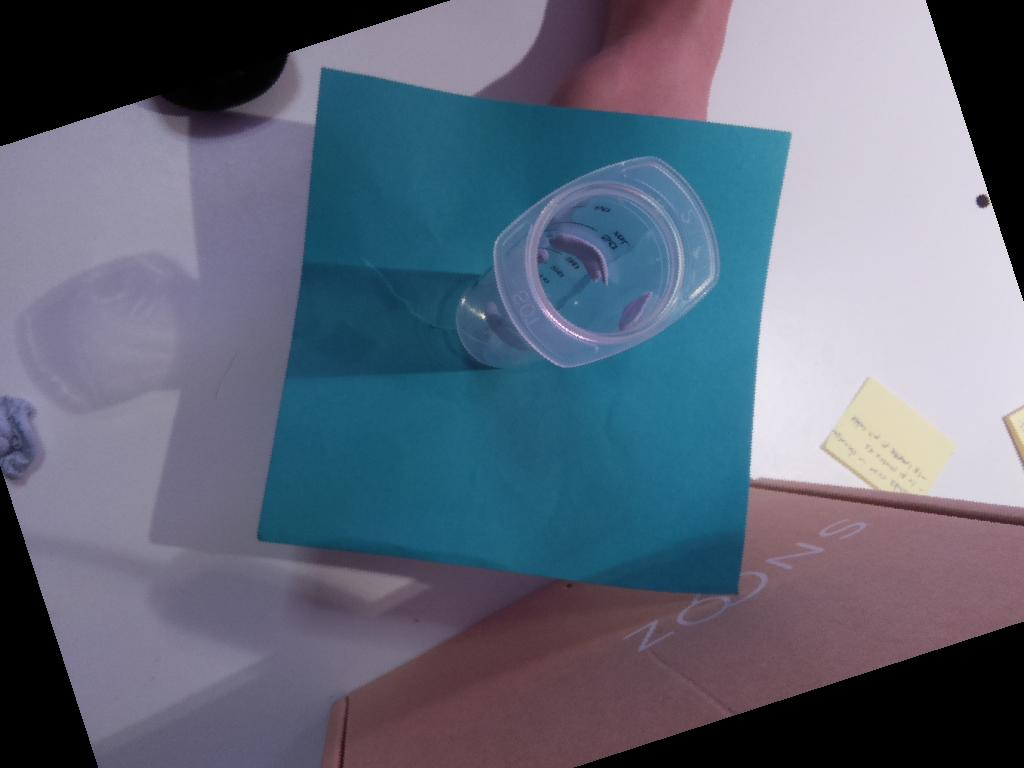dirty: (493, 155, 722, 369)
